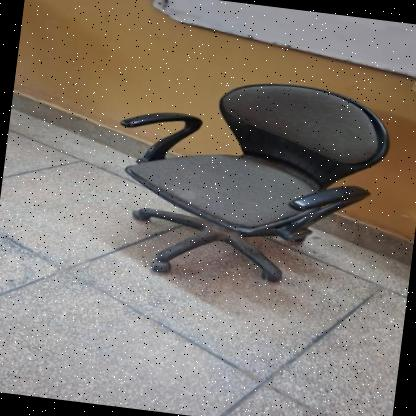chair: (96, 57, 402, 308)
